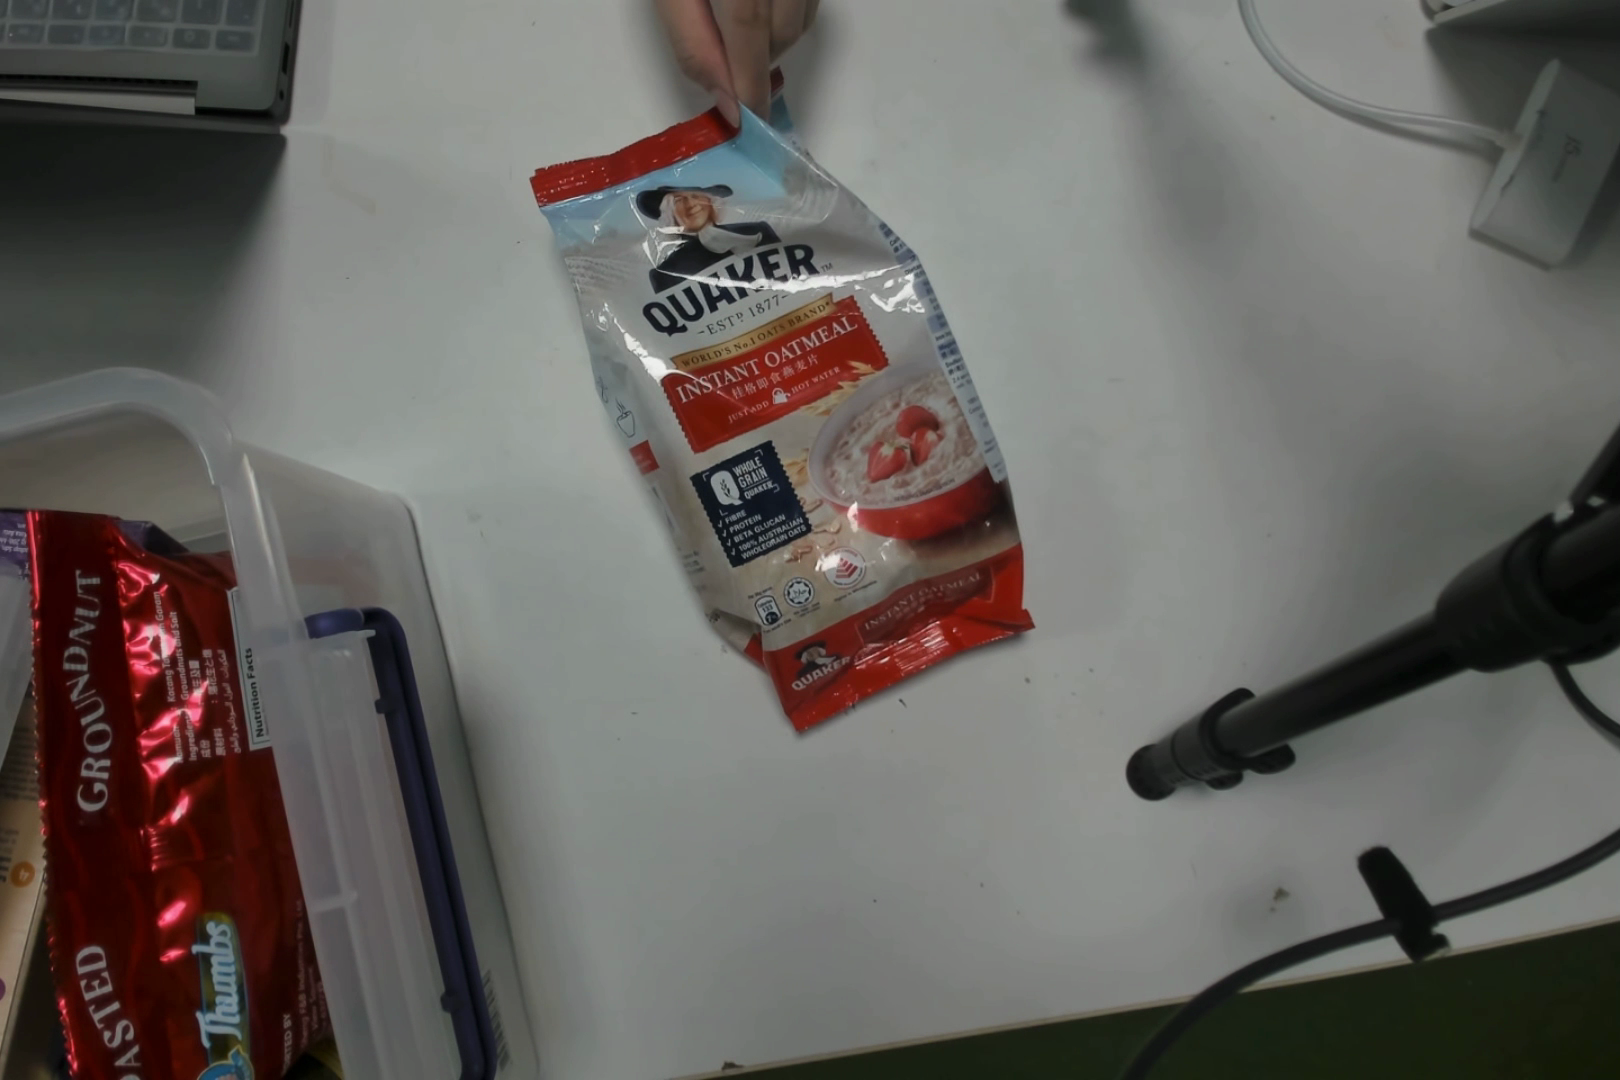RolledOatsInstantOatmeal_400-499g_Halal_Healthy: (597, 124, 1051, 688)
